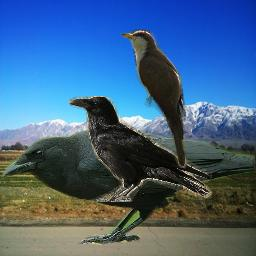Crow: (1, 128, 256, 247), (69, 96, 212, 202)
Cuckoo: (120, 29, 190, 170)
